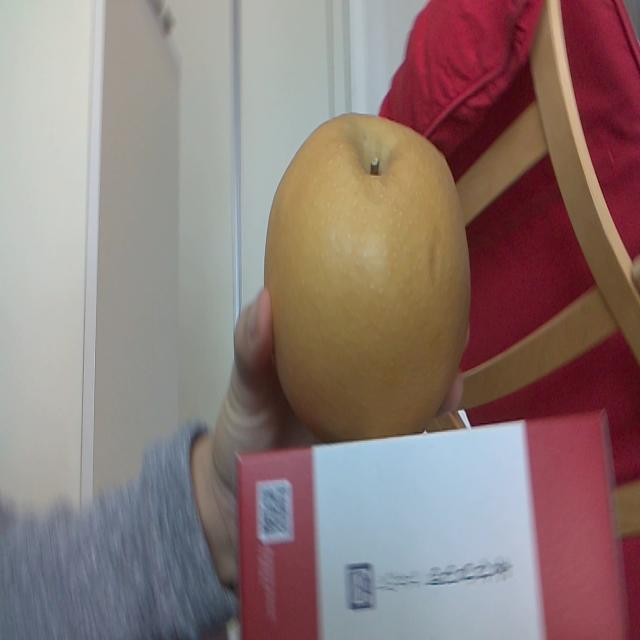pear: (264, 112, 470, 434)
